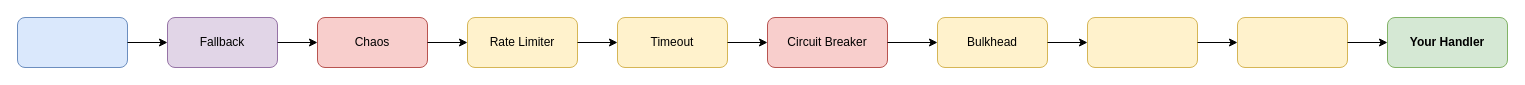
The diagram is 1525 pixels wide and 85 high, and some of its shapes have lost their labels. Each missing label, with the centre of its shape:
"Hedge" belongs at pixel 1292 42.
"Retry" belongs at pixel 1142 42.
"Your Call" belongs at pixel 72 42.
